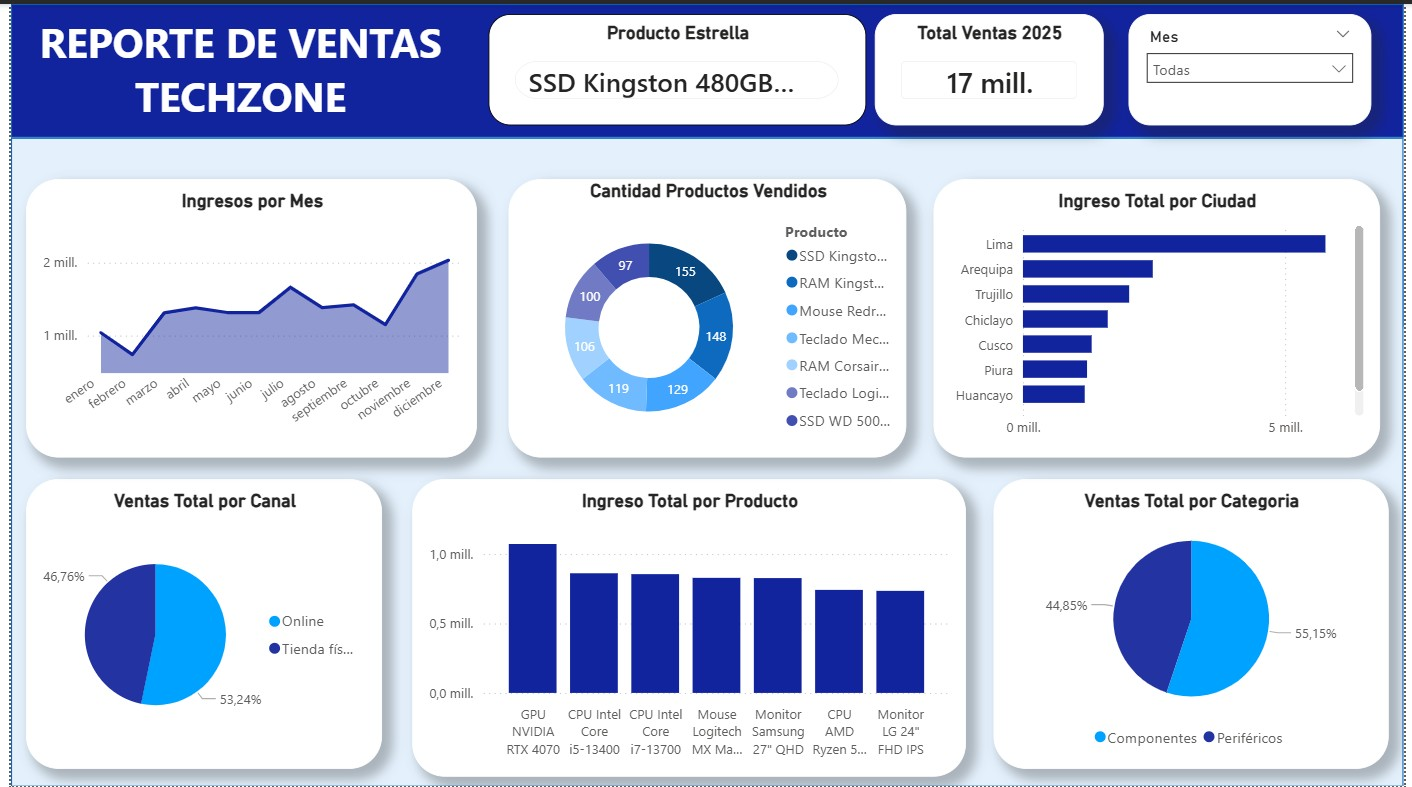

The dashboard page shown, as its layout file describes it:
{"tool":"powerbi","page":{"name":"Página 1","canvas":[1280,720],"ordinal":0},"visuals":[{"type":"shape","box":[0,0,1279.6,122.9],"z":0},{"type":"shape","box":[0,173.8,1280,123.4],"z":1000},{"type":"shape","box":[0,122.9,1279.6,597.3],"z":2000},{"type":"pieChart","title":"Ventas Total por Canal ","fields":{"Category":["ventas_perifericos_2025.Canal_venta"],"Y":["CountNonNull(ventas_perifericos_2025.ID_venta)"]},"box":[13.8,436.5,327.4,266.5],"z":3000},{"type":"pieChart","title":"Ventas Total por Categoria","fields":{"Category":["ventas_perifericos_2025.Categoría"],"Y":["CountNonNull(ventas_perifericos_2025.ID_venta)"]},"box":[902.9,436.5,363,266.5],"z":4000},{"type":"clusteredBarChart","title":"Ingreso Total por Ciudad","fields":{"Y":["Sum(ventas_perifericos_2025.Ingreso_total)"],"Category":["ventas_perifericos_2025.Ciudad"]},"box":[847.7,160.8,410.1,256.2],"z":5000},{"type":"areaChart","title":"Ingresos por Mes","fields":{"Y":["Sum(ventas_perifericos_2025.Ingreso_total)"],"Category":["ventas_perifericos_2025.Fecha.Variación.Jerarquía de fechas.Mes"]},"box":[13.8,160.8,414.7,256.2],"z":6000},{"type":"columnChart","title":"Ingreso Total por Producto","fields":{"Category":["ventas_perifericos_2025.Producto"],"Y":["Sum(ventas_perifericos_2025.Ingreso_total)"]},"box":[368.7,436.5,508.9,273.4],"z":7000},{"type":"donutChart","title":"Cantidad Productos Vendidos","fields":{"Y":["Sum(ventas_perifericos_2025.Cantidad)"],"Category":["ventas_perifericos_2025.Producto"]},"box":[457.2,160.8,365.3,256.2],"z":8000},{"type":"textbox","title":"REPORTE DE VENTAS TECHZONE","box":[14.4,9.6,391.9,101.9],"z":9000},{"type":"slicer","fields":{"Values":["ventas_perifericos_2025.Fecha.Variación.Jerarquía de fechas.Mes"]},"box":[1026.9,9.2,222.8,102.2],"z":10000},{"type":"cardVisual","title":"Total Ventas 2025","fields":{"Data":["ventas_perifericos_2025.TotalVentaAnual"]},"box":[793.7,9.2,210.2,102.2],"z":11000},{"type":"cardVisual","title":"Producto Estrella","fields":{"Data":["ventas_perifericos_2025.Producto Estrella"]},"box":[438.8,9.2,346.9,102.2],"z":12000}]}

Visuals, with their boxes in screenshot pixels (x1, y1, x2, y2), scaled from the page's 1280x720 canvas onto the 1412x787 screenshot:
shape: <box>0,0,1411,134</box>
shape: <box>0,190,1411,325</box>
shape: <box>0,134,1411,786</box>
"Ventas Total por Canal " pieChart: <box>15,477,376,768</box>
"Ventas Total por Categoria" pieChart: <box>996,477,1396,768</box>
"Ingreso Total por Ciudad" clusteredBarChart: <box>935,176,1388,456</box>
"Ingresos por Mes" areaChart: <box>15,176,473,456</box>
"Ingreso Total por Producto" columnChart: <box>407,477,968,776</box>
"Cantidad Productos Vendidos" donutChart: <box>504,176,907,456</box>
"REPORTE DE VENTAS TECHZONE" textbox: <box>16,10,448,122</box>
slicer - ventas_perifericos_2025.Fecha.Variación.Jerarquía de fechas.Mes: <box>1133,10,1379,122</box>
"Total Ventas 2025" cardVisual: <box>876,10,1107,122</box>
"Producto Estrella" cardVisual: <box>484,10,867,122</box>
